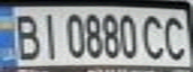0: (60, 9, 84, 60), (118, 10, 142, 60)
8: (81, 9, 103, 60), (100, 10, 121, 60)
B: (6, 9, 42, 61)
C: (160, 11, 193, 62), (139, 11, 172, 61)
I: (33, 9, 63, 60)
